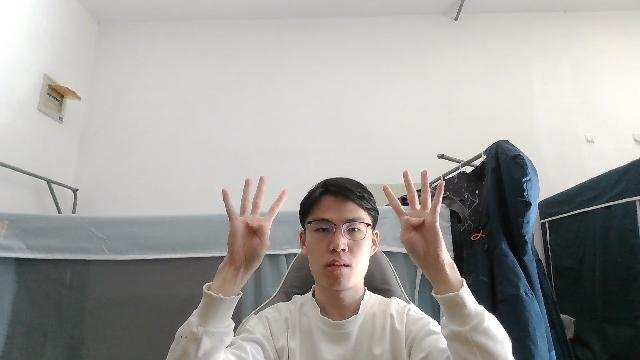four: (216, 172, 289, 284), (383, 166, 452, 272)
